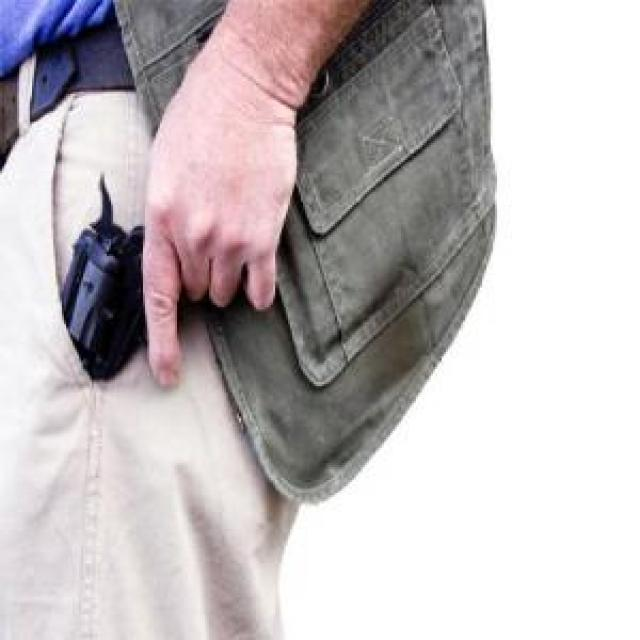pistol: (36, 160, 204, 546)
